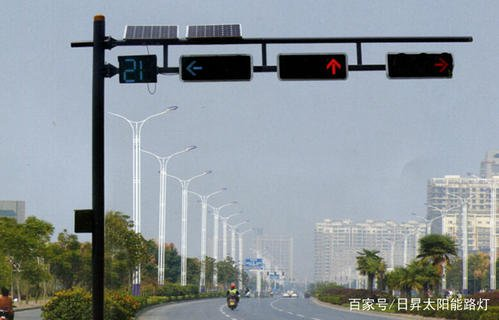green: (177, 52, 254, 83)
red: (381, 49, 457, 84), (274, 52, 353, 82)
